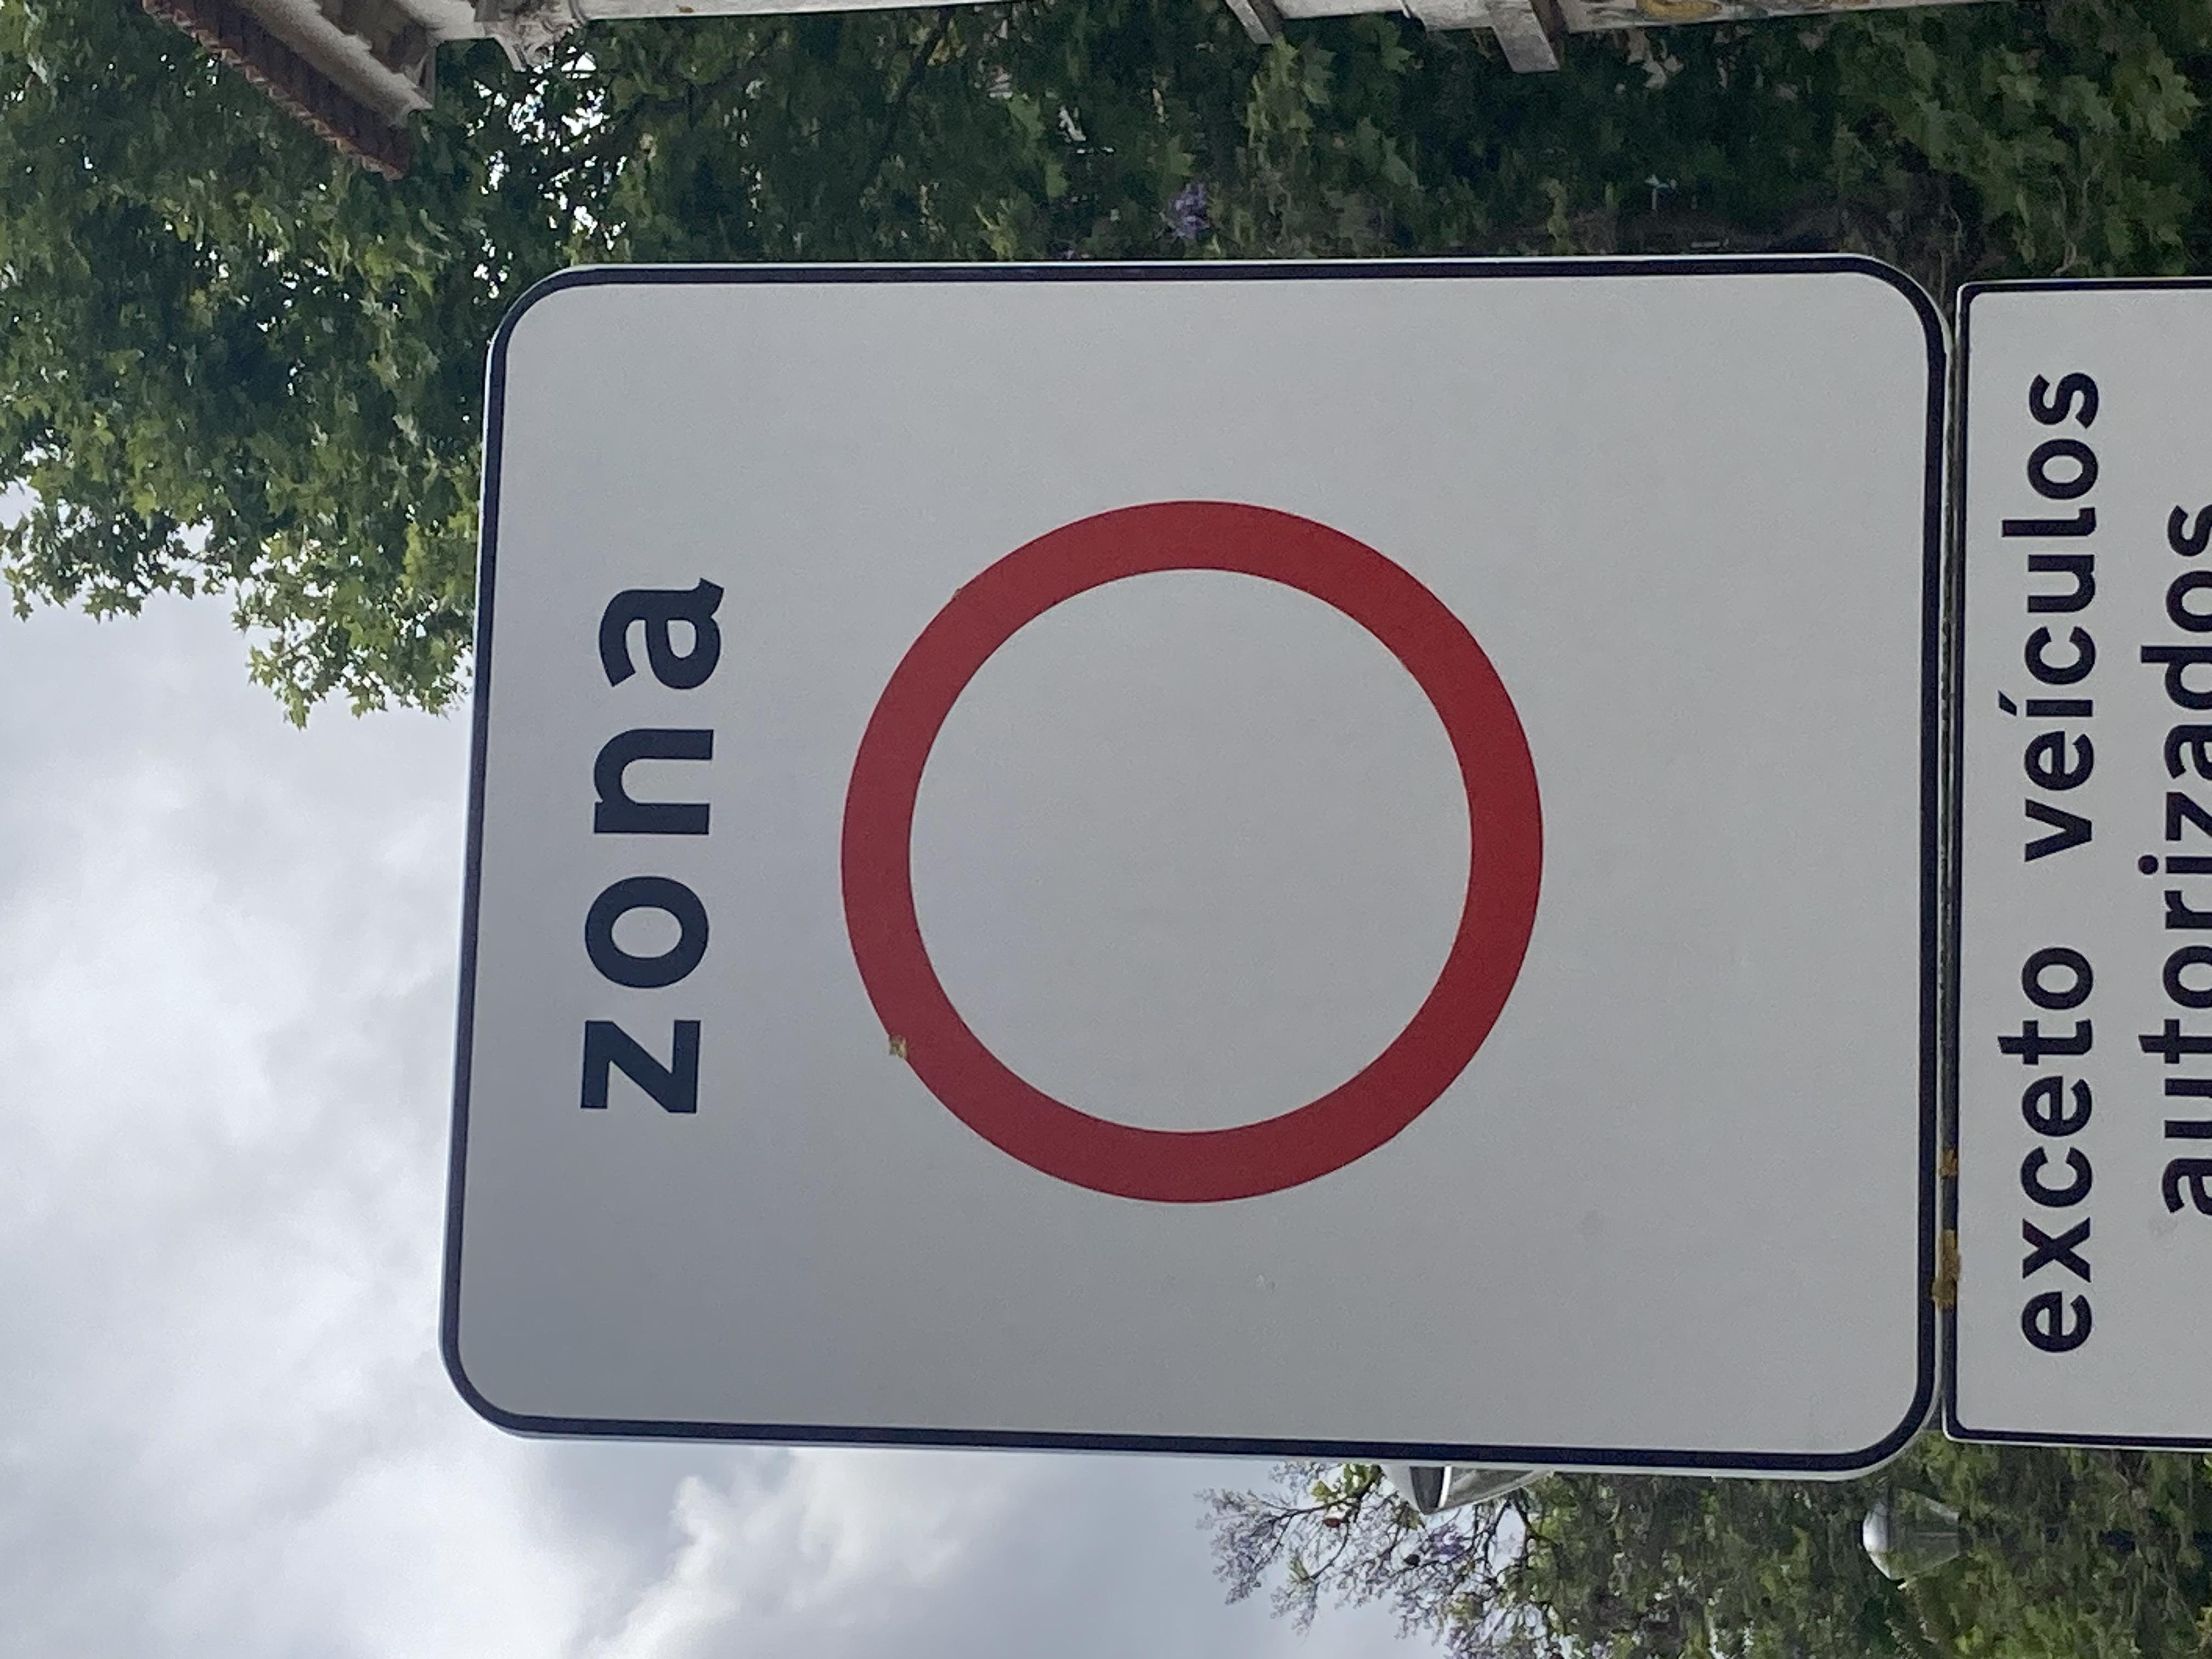zona de transito proibido: (183, 317, 1968, 1469)
